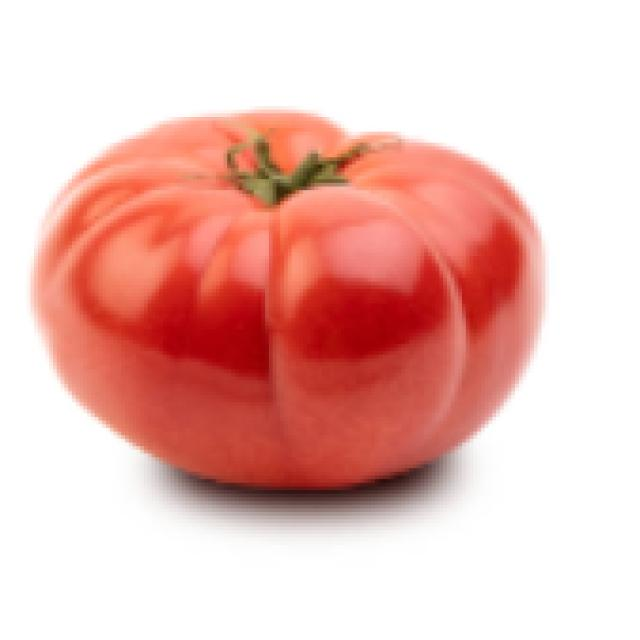Tomato: (52, 91, 552, 510)
